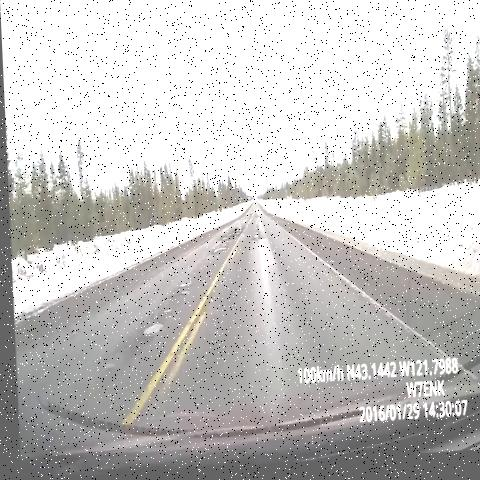pothole: (133, 314, 170, 354), (168, 271, 196, 310), (217, 220, 246, 248), (207, 237, 231, 267), (246, 223, 262, 250), (247, 213, 260, 229)
